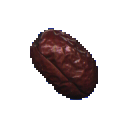ng: (23, 22, 105, 107)
